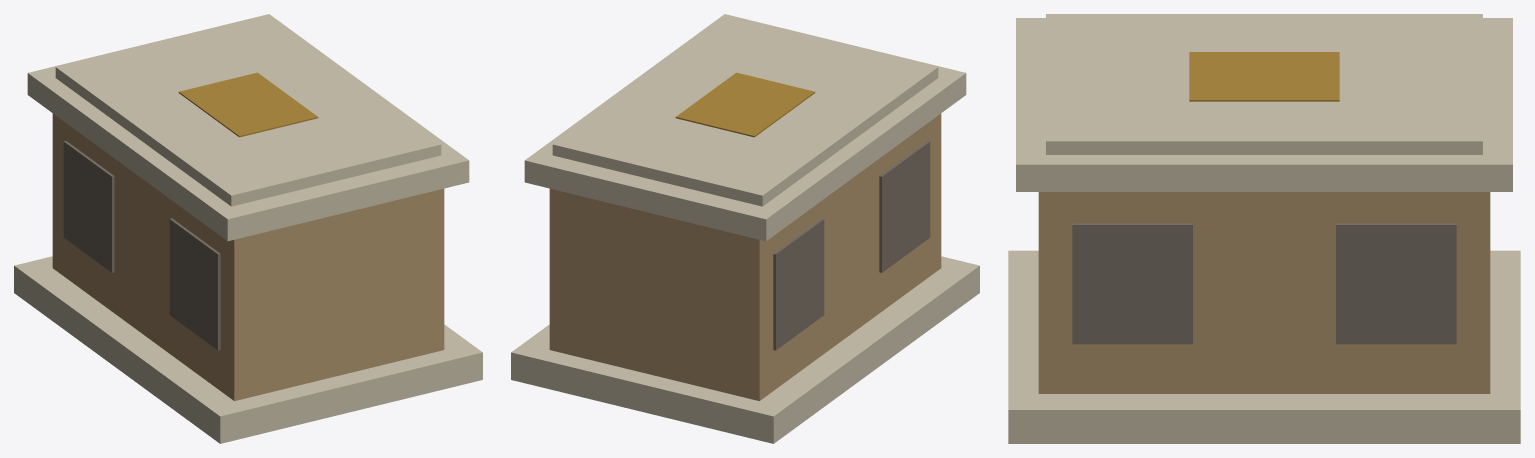
Rendered from grave_tomb.glb.
The picture shows the model from 3 angles, left to right: view 1: azimuth 30°, elevation 25°; view 2: azimuth 150°, elevation 25°; view 3: azimuth 270°, elevation 25°; orthographic projection. The views are drawn at different scales.
Parts seen in each view (by area): view 1: grave_tomb; view 2: grave_tomb; view 3: grave_tomb.
Part boxes in pixels (x1,y1,x2,y2): grave_tomb: (14,14,482,443); grave_tomb: (511,14,979,443); grave_tomb: (1008,14,1520,443).
Size of the model in its own units: 1 by 0.845 by 1.36.
1 material, 1 textured.
